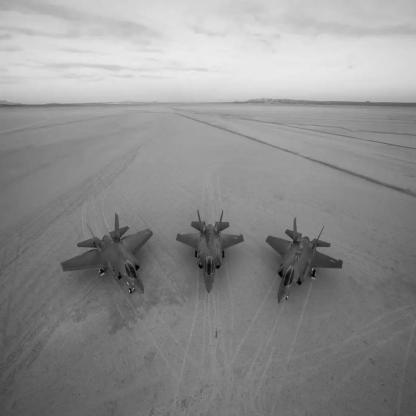F35: (61, 213, 154, 295), (266, 218, 344, 305), (177, 209, 245, 295)
